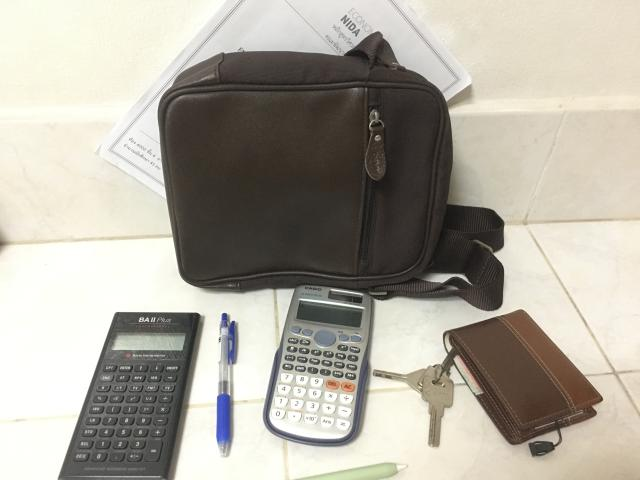Keys: (372, 349, 457, 446)
Pen: (216, 312, 235, 458)
Wallet: (444, 310, 602, 444)
paper: (99, 0, 471, 256)
